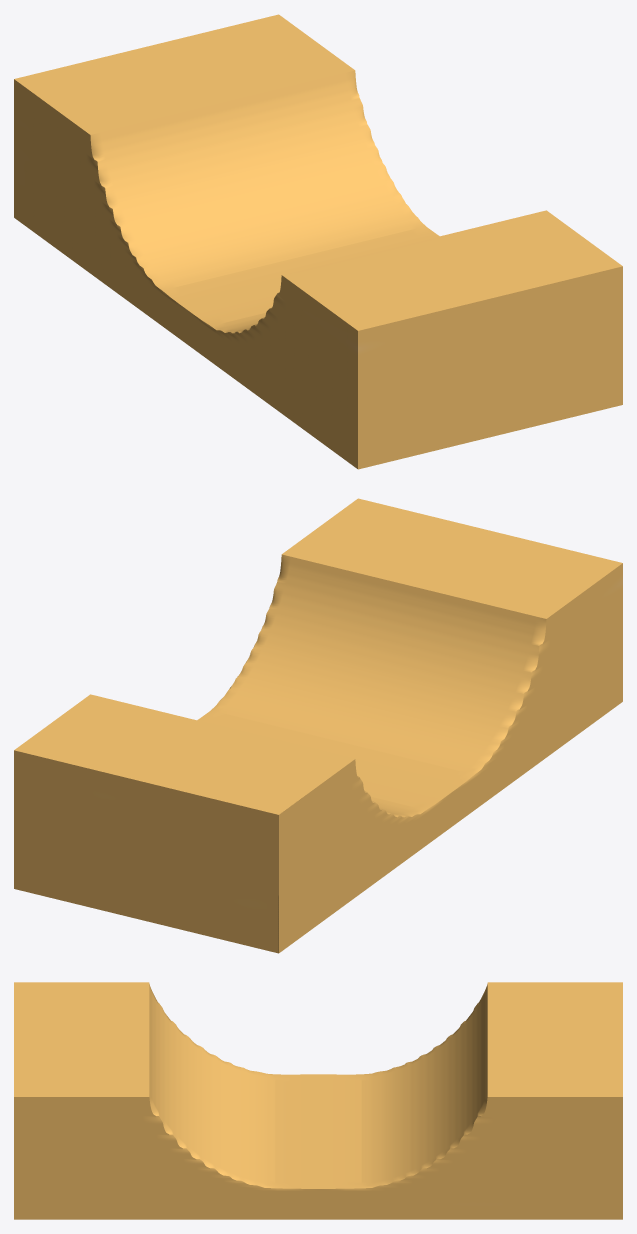
Rendered from halfpipe.fbx.
The picture shows the model from 3 angles, top to bottom: view 1: azimuth 30°, elevation 25°; view 2: azimuth 150°, elevation 25°; view 3: azimuth 270°, elevation 25°; orthographic projection. The views are drawn at different scales.
Visible parts, largest first — view 1: Plane.001; view 2: Plane.001; view 3: Plane.001.
Part boxes in pixels (x1=…): Plane.001: x1=14, y1=14, x2=622, y2=469; Plane.001: x1=14, y1=498, x2=622, y2=953; Plane.001: x1=14, y1=982, x2=622, y2=1219.
Bounding box in the file's own units: 800 × 400 × 1800.
Materials: 1 (1 with a texture image).
